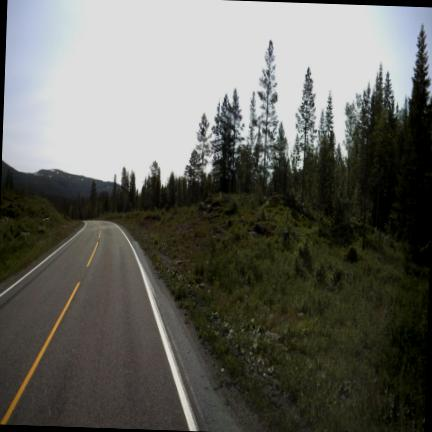Road: (0, 222, 239, 430)
